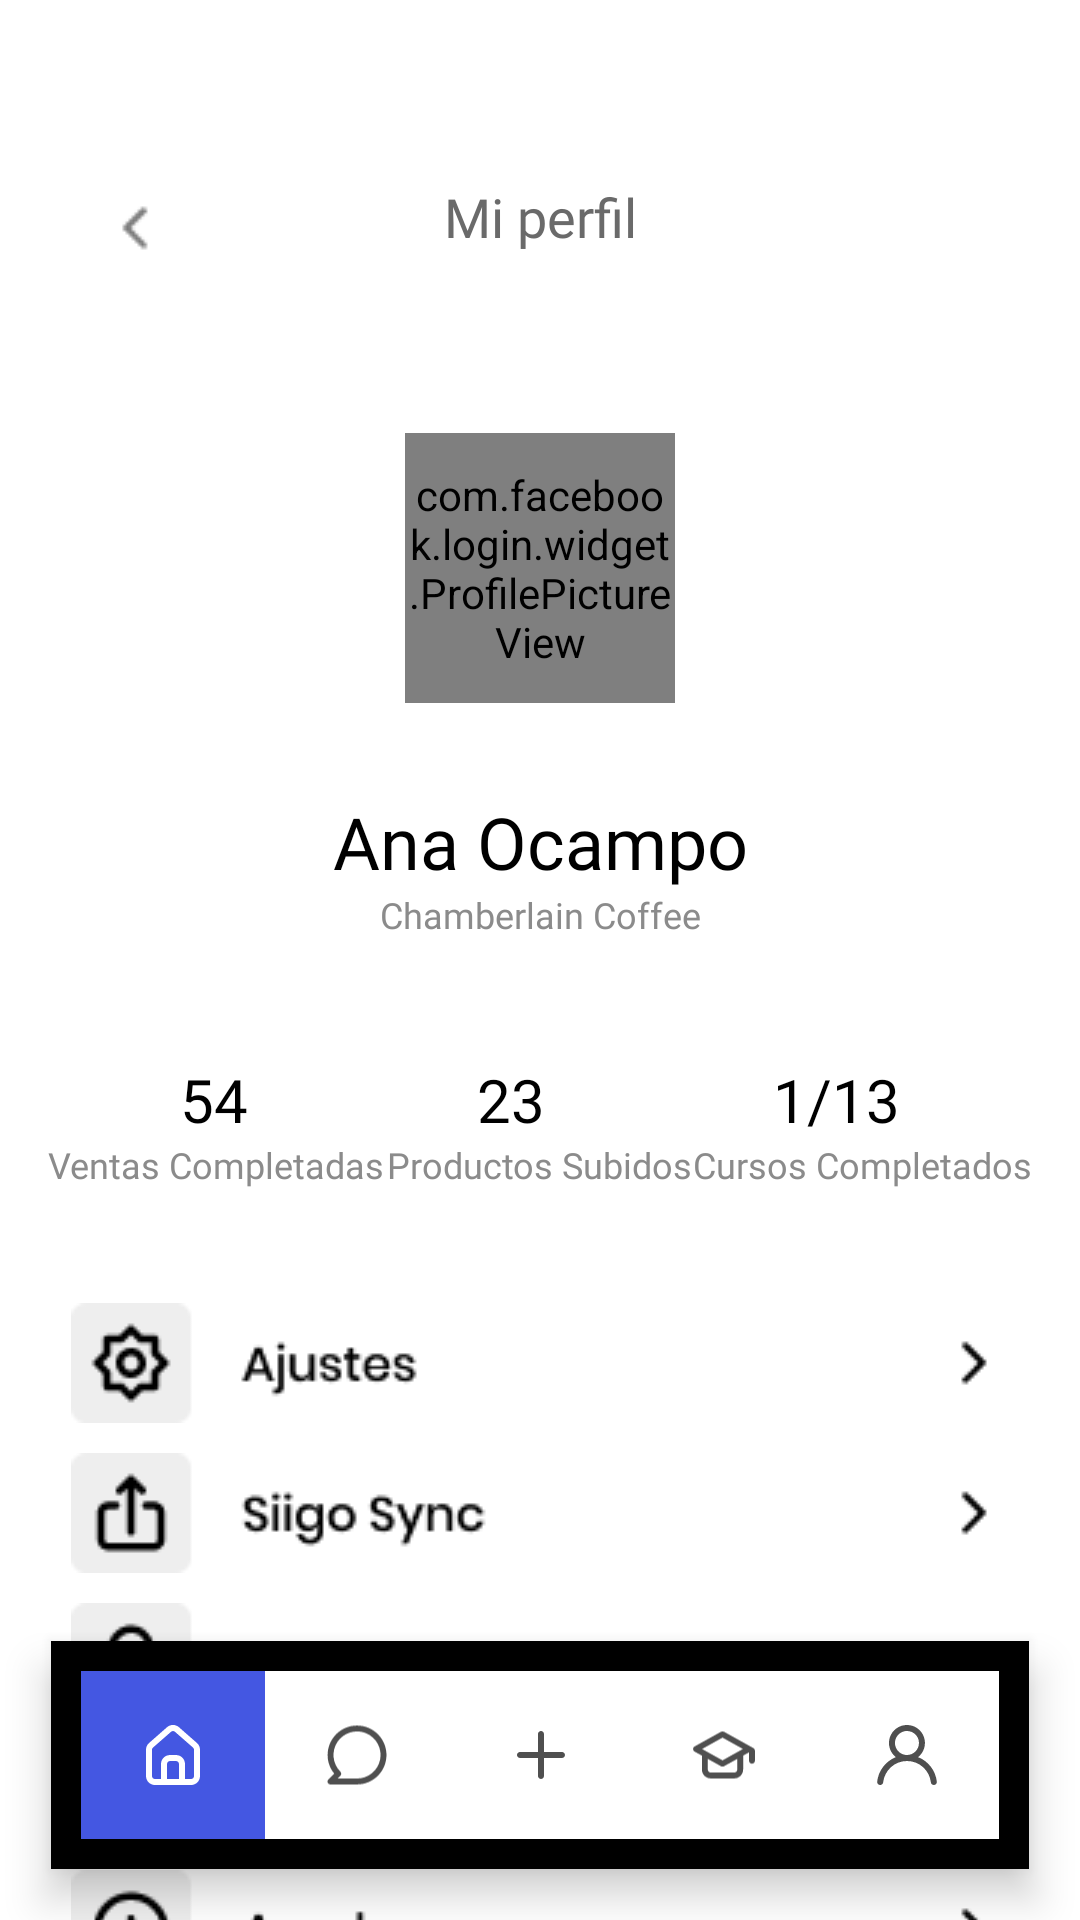

Named icons in this screenshot (1080w x 1920h) and their bounding boxes, Rect(x1, y1, x2, y2):
back arrow: Rect(122, 206, 148, 249)
